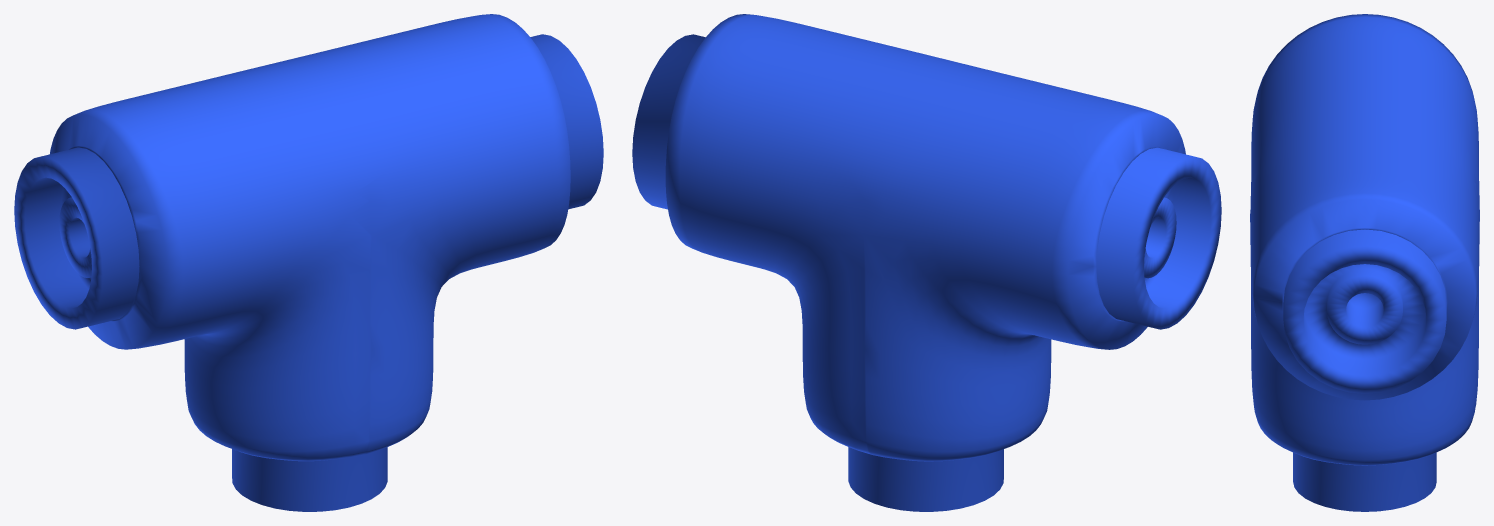
Rendered from Centre.glb.
3 views of the same model, side by side, from view 1: azimuth 30°, elevation 25°; view 2: azimuth 150°, elevation 25°; view 3: azimuth 270°, elevation 25° (orthographic). The views are drawn at different scales.
Parts seen in each view (by area): view 1: Manche.004; view 2: Manche.004; view 3: Manche.004.
Part boxes in pixels (box(x1,y1,x2,y2)): Manche.004: box(14, 14, 603, 511); Manche.004: box(632, 14, 1221, 511); Manche.004: box(1250, 14, 1479, 511).
Size of the model in its own units: 1.62 by 1.27 by 0.7006.
